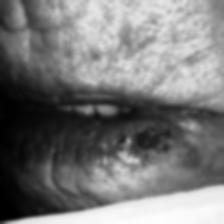Potentially Malignant Skin Tumors: (132, 124, 160, 153)
